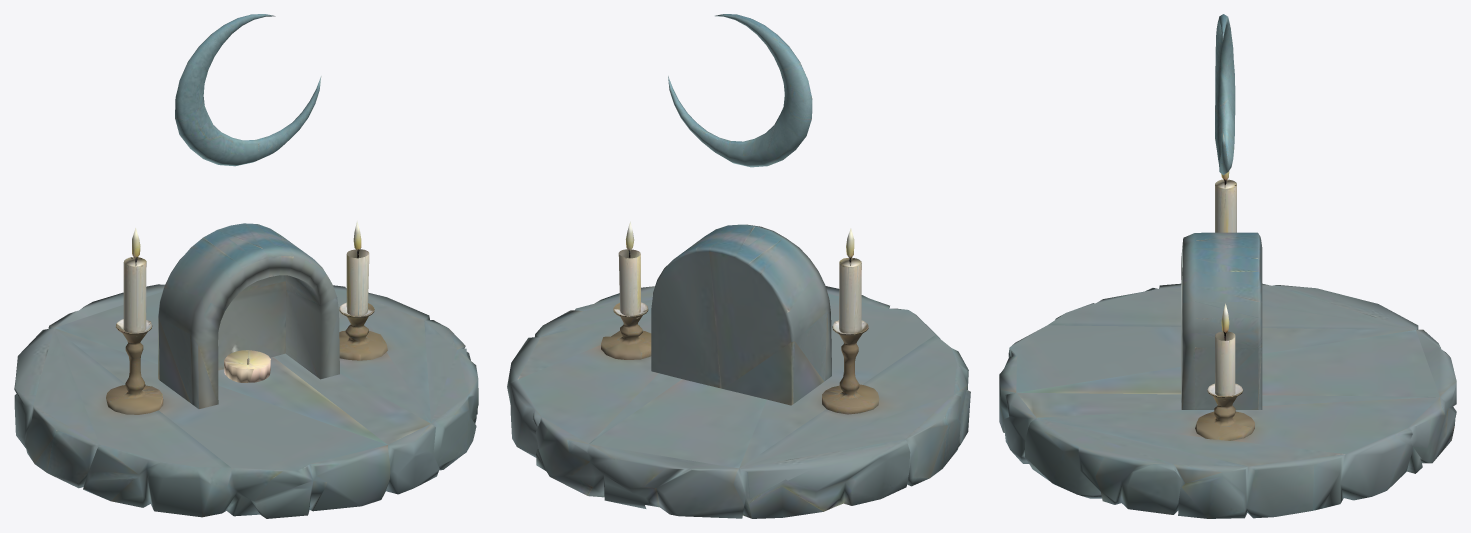
The model's file is shrine.glb.
The picture shows the model from 3 angles, left to right: view 1: azimuth 30°, elevation 25°; view 2: azimuth 150°, elevation 25°; view 3: azimuth 270°, elevation 25°; orthographic projection.
Bounding box in the file's own units: 0.958 × 0.9238 × 0.9541.
1 material, 1 textured.
